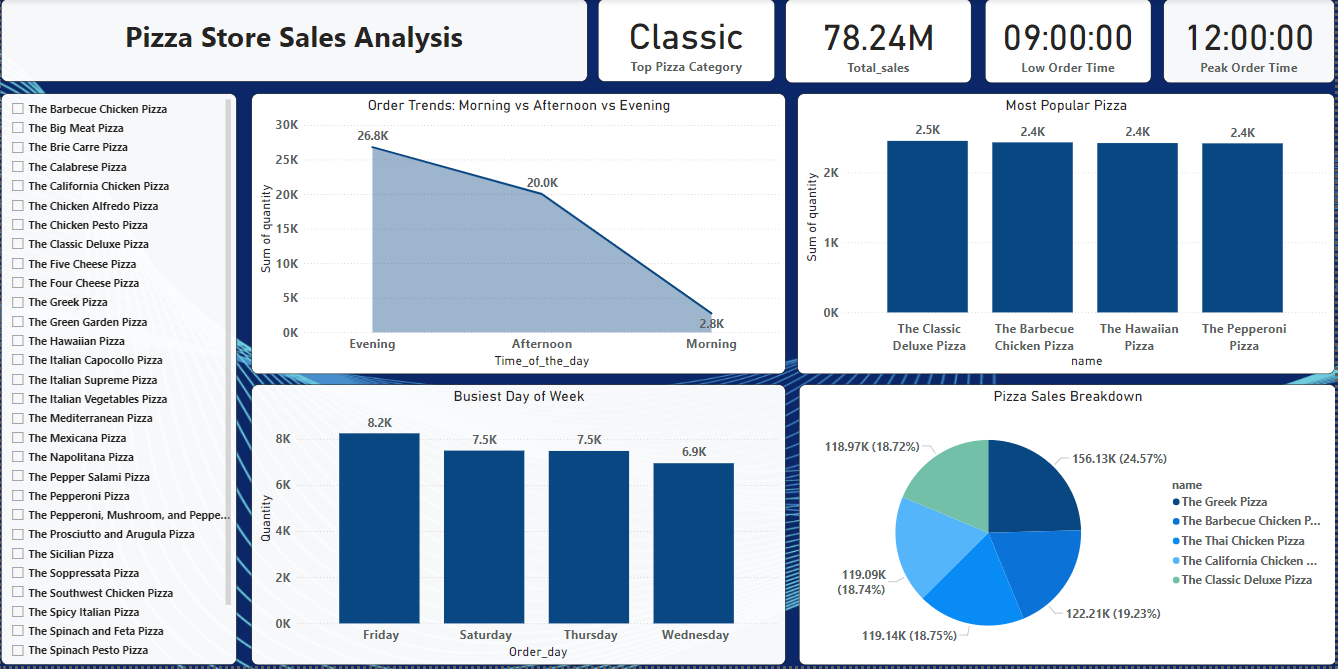

The dashboard page shown, as its layout file describes it:
{"tool":"powerbi","page":{"name":"Page 1","canvas":[2000,1000],"ordinal":0},"visuals":[{"type":"textbox","box":[0,0,879.3,123.7],"z":0},{"type":"clusteredColumnChart","title":"Busiest Day of Week","fields":{"Category":["orders.Order_day"],"Y":["Sum(order_details.quantity)"]},"box":[375.6,578,800.6,420.5],"z":1000},{"type":"card","fields":{"Values":["Min(orders.Order_hour)"]},"box":[1741.8,0,256.6,125.8],"z":2000},{"type":"card","fields":{"Values":["Min(orders.Order_hour)"]},"box":[1475.3,0,249.6,125.9],"z":3000},{"type":"card","fields":{"Values":["order_details.Total_sales"]},"box":[1176.2,0,278.9,125.9],"z":4000},{"type":"clusteredColumnChart","title":"Most Popular Pizza","fields":{"Category":["pizza_types.name"],"Y":["Sum(order_details.quantity)"]},"box":[1194.2,141.7,805.1,420.5],"z":5000},{"type":"pieChart","title":"Pizza Sales Breakdown","fields":{"Category":["pizza_types.name"],"Y":["order_details.Total_sales"]},"box":[1196.4,578,805.1,420.5],"z":6000},{"type":"card","fields":{"Values":["Min(pizza_types.category)"]},"box":[895.1,0,265.4,123.7],"z":7000},{"type":"areaChart","title":"Order Trends: Morning vs Afternoon vs Evening","fields":{"Category":["orders.Time_of_the_day"],"Y":["Sum(order_details.quantity)"]},"box":[375.6,141.7,800.6,420.5],"z":8000},{"type":"slicer","fields":{"Values":["pizza_types.name"]},"box":[0,141.7,353.1,856.8],"z":9000}]}

Visuals, with their boxes in screenshot pixels (x1, y1, x2, y2), scaled from the page's 2000x1000 canvas onto the 1338x669 screenshot:
textbox: 0,0,588,83
"Busiest Day of Week" clusteredColumnChart: 251,387,787,668
card - Min(orders.Order_hour): 1165,0,1337,84
card - Min(orders.Order_hour): 987,0,1154,84
card - order_details.Total_sales: 787,0,973,84
"Most Popular Pizza" clusteredColumnChart: 799,95,1337,376
"Pizza Sales Breakdown" pieChart: 800,387,1337,668
card - Min(pizza_types.category): 599,0,776,83
"Order Trends: Morning vs Afternoon vs Evening" areaChart: 251,95,787,376
slicer - pizza_types.name: 0,95,236,668
